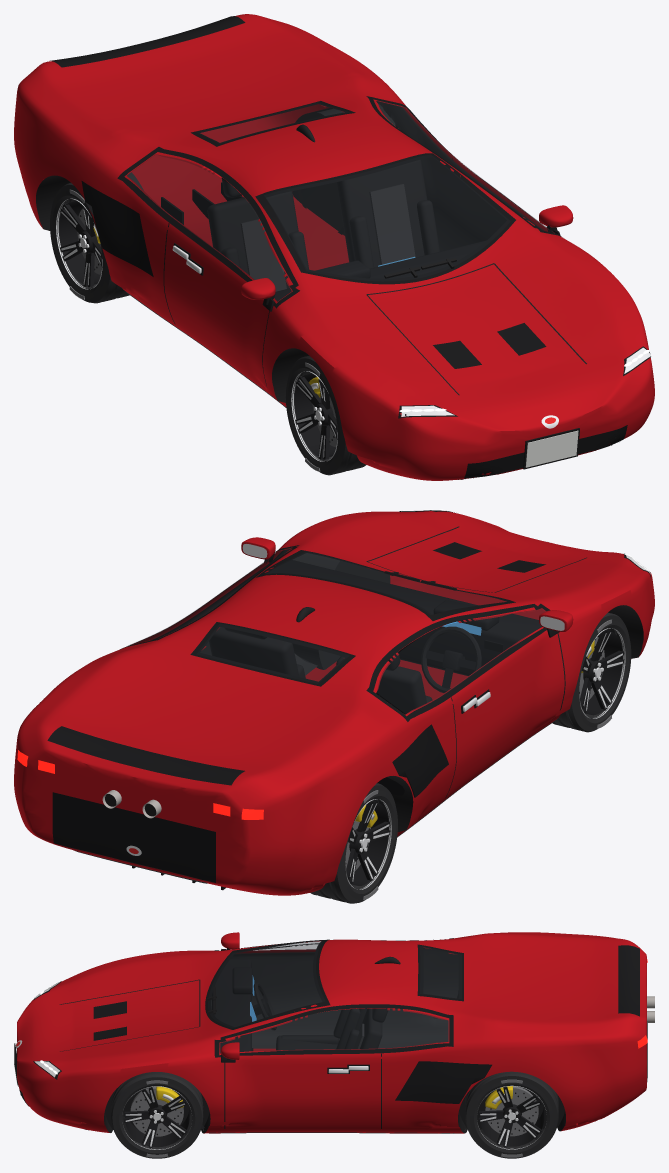
3 renders of one model, top to bottom at view 1: azimuth 30°, elevation 25°; view 2: azimuth 150°, elevation 25°; view 3: azimuth 270°, elevation 25°, orthographic. The views are drawn at different scales.
Parts seen in each view (by area): view 1: Body, Wheel_FR, Wheel_RR; view 2: Body, Wheel_RR, Wheel_FR; view 3: Body, Wheel_RL, Wheel_FL.
Part boxes in pixels (box(x1,y1,x2,y2)): Body: box(14, 14, 654, 480); Wheel_FR: box(285, 355, 366, 475); Wheel_RR: box(50, 183, 129, 303); Body: box(14, 509, 654, 895); Wheel_RR: box(310, 783, 397, 903); Wheel_FR: box(552, 612, 631, 732); Body: box(14, 932, 654, 1133); Wheel_RL: box(465, 1071, 558, 1158); Wheel_FL: box(111, 1072, 203, 1158).
Bounding box in the file's own units: 2.13 × 1.24 × 4.79.
